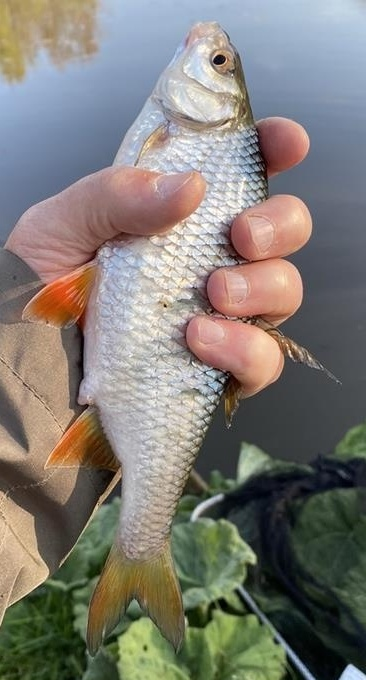Rutilus rutilus: (20, 20, 346, 660)
